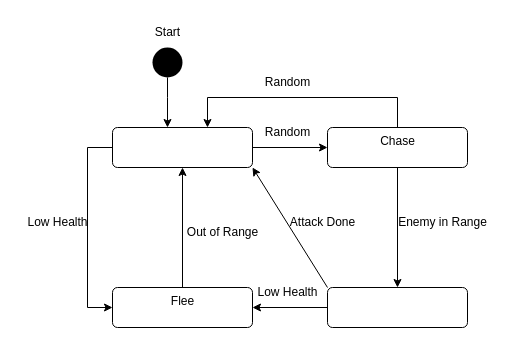
This 514x345 diagram has some shape labels left out. The shapes that lost their labels are listed below. From the top down, each one's centre as x and y in pixels, then its label:
At (x=182, y=147): "Wander".
At (x=397, y=307): "Attack".
